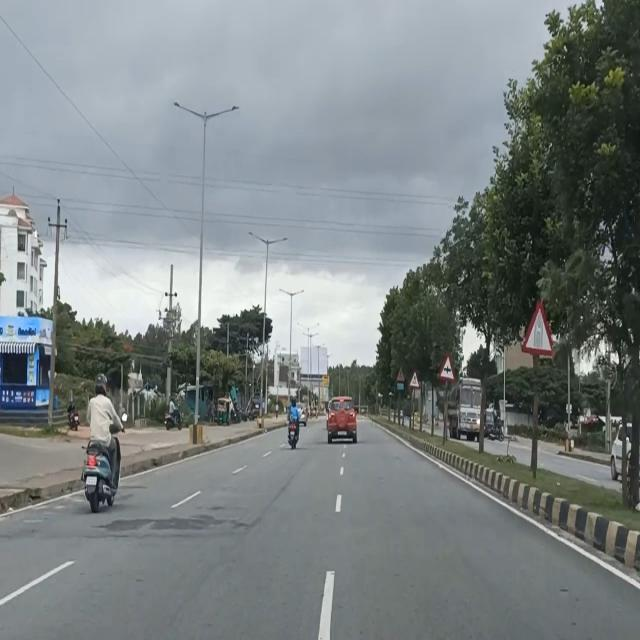bien_cam: (520, 298, 556, 356), (438, 350, 455, 382), (409, 370, 420, 390)
